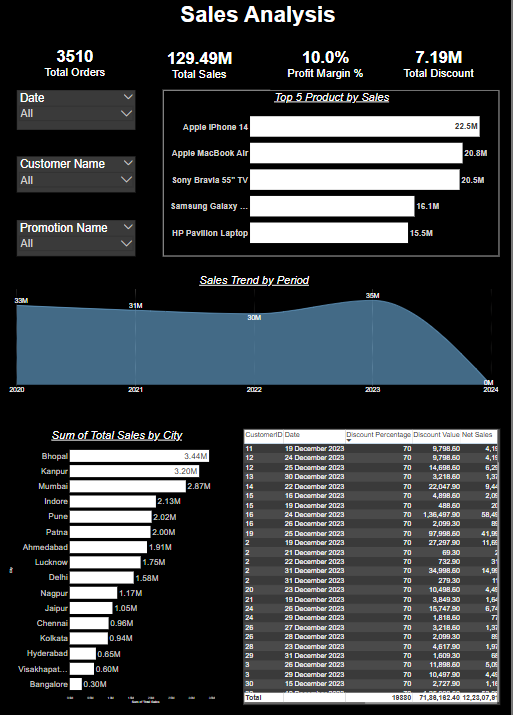

The page's visual inventory and layout, read from the dashboard file:
{"tool":"powerbi","page":{"name":"Page 3","canvas":[2480,3508],"ordinal":6},"visuals":[{"type":"card","fields":{"Values":["Count(Fact Table.Index)"]},"box":[71.7,197.3,639.7,281],"z":0},{"type":"clusteredBarChart","title":"Top 5 Product by Sales","fields":{"Category":["Dim Product.Product Name"],"Y":["Sum(Fact Table.Total Sales)"]},"box":[813,478.3,1608.1,795.1],"z":1000},{"type":"areaChart","title":"Sales Trend by Period","fields":{"Category":["Date Table 1.Date.Variation.Date Hierarchy.Year","Date Table 1.Date.Variation.Date Hierarchy.Quarter","Date Table 1.Date.Variation.Date Hierarchy.Month","Date Table 1.Date.Variation.Date Hierarchy.Day"],"Y":["Sum(Fact Table.Total Sales)"]},"box":[73.9,1356.5,2352.2,582.6],"z":3000},{"type":"clusteredBarChart","fields":{"Category":["Dim Customers.City"],"Y":["Sum(Fact Table.Total Sales)"]},"box":[71.7,2098.4,1040.2,1321.2],"z":4000},{"type":"tableEx","fields":{"Values":["Fact Table.CustomerID","Fact Table.Date (dd/mm/yyyy)","Sum(Fact Table.Discount Percentage)","Sum(Fact Table.Discount Value)","Sum(Fact Table.Net Sales)","Sum(Fact Table.Price Per Unit)","Fact Table.Product ID","Sum(Fact Table.Profit)","Fact Table.PromotionID","Sum(Fact Table.Total Sales)","Sum(Fact Table.Units Sold)"]},"box":[1194,2097.1,1230.4,1321.3],"z":5000},{"type":"slicer","fields":{"Values":["Date Table 1.Date"]},"box":[113.6,478.3,567.9,191.3],"z":6000},{"type":"slicer","fields":{"Values":["Dim Customers.Customer Name"]},"box":[113.6,795.1,567.9,173.4],"z":7000},{"type":"slicer","fields":{"Values":["Dim Promotion.Promotion Name"]},"box":[113.6,1100,567.9,173.4],"z":9000},{"type":"textbox","box":[890.8,47.8,872.8,149.5],"z":10000},{"type":"card","fields":{"Values":["Measure Table.Profit Margin %"]},"box":[1327.2,209.2,526.1,269],"z":10002},{"type":"card","fields":{"Values":["Measure Table.Total Discount"]},"box":[1811.4,209.2,639.7,269],"z":10003},{"type":"card","fields":{"Values":["Measure Table.Avg Sales per Customer"]},"box":[705.4,233.2,562,227.2],"z":10004}]}

Visuals, with their boxes in screenshot pixels (x1, y1, x2, y2), scaled from the page's 2480x3508 canvas onto the 513x715 screenshot:
card - Count(Fact Table.Index): (15,40,147,97)
"Top 5 Product by Sales" clusteredBarChart: (168,97,501,260)
"Sales Trend by Period" areaChart: (15,276,502,395)
clusteredBarChart - Dim Customers.City x Sum(Fact Table.Total Sales): (15,428,230,697)
tableEx - Fact Table.CustomerID x Fact Table.Date (dd/mm/yyyy): (247,427,501,697)
slicer - Date Table 1.Date: (23,97,141,136)
slicer - Dim Customers.Customer Name: (23,162,141,197)
slicer - Dim Promotion.Promotion Name: (23,224,141,260)
textbox: (184,10,365,40)
card - Measure Table.Profit Margin %: (275,43,383,97)
card - Measure Table.Total Discount: (375,43,507,97)
card - Measure Table.Avg Sales per Customer: (146,48,262,94)
